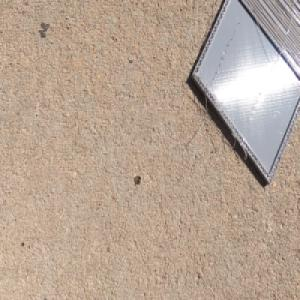PlasticPart: (188, 0, 300, 188)
